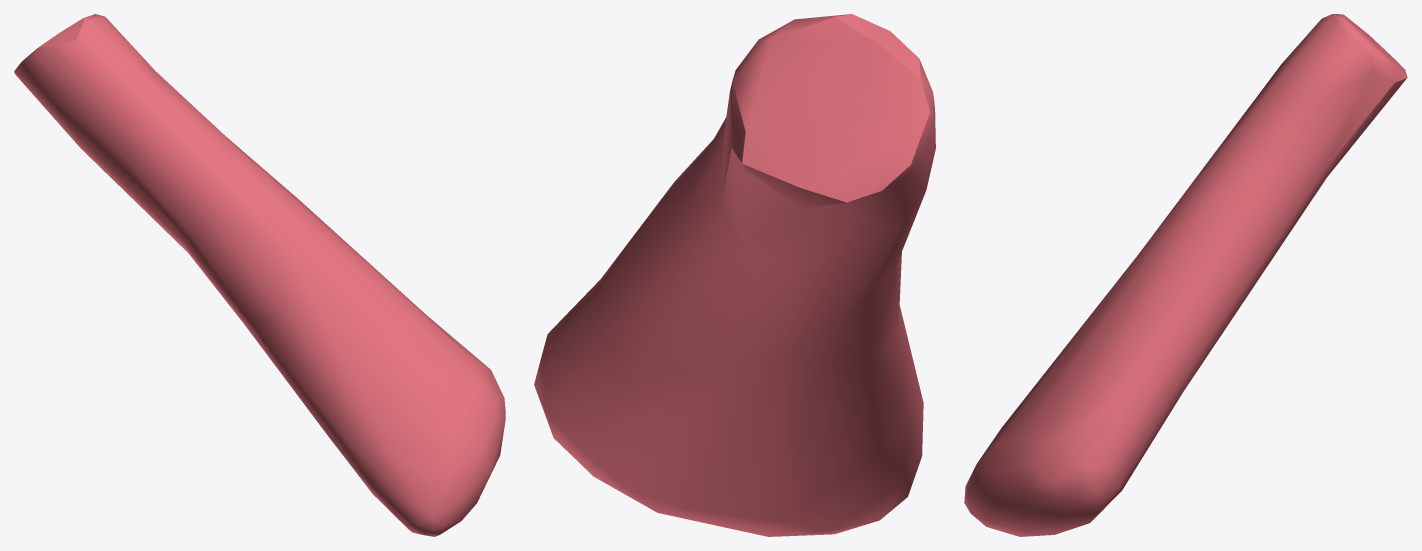
Rendered from fma4086_fj2224.glb.
The picture shows the model from 3 angles, left to right: view 1: azimuth 30°, elevation 25°; view 2: azimuth 150°, elevation 25°; view 3: azimuth 270°, elevation 25°; orthographic projection. The views are drawn at different scales.
Parts seen in each view (by area): view 1: FMA4086_FJ2224; view 2: FMA4086_FJ2224; view 3: FMA4086_FJ2224.
Boxes of the visible parts, x1,y1,x2,y2 form: FMA4086_FJ2224: (14,14,505,536); FMA4086_FJ2224: (534,14,935,536); FMA4086_FJ2224: (964,14,1407,536).
Size of the model in its own units: 0.00668 by 0.0082 by 0.00778.
